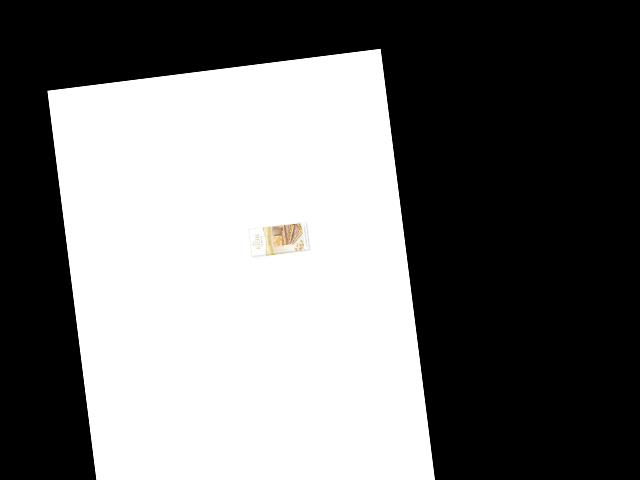chocolate: (244, 216, 313, 269)
